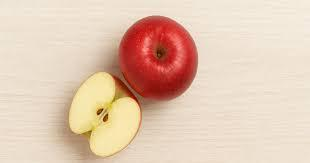apple: (117, 13, 201, 102), (67, 71, 143, 157)
